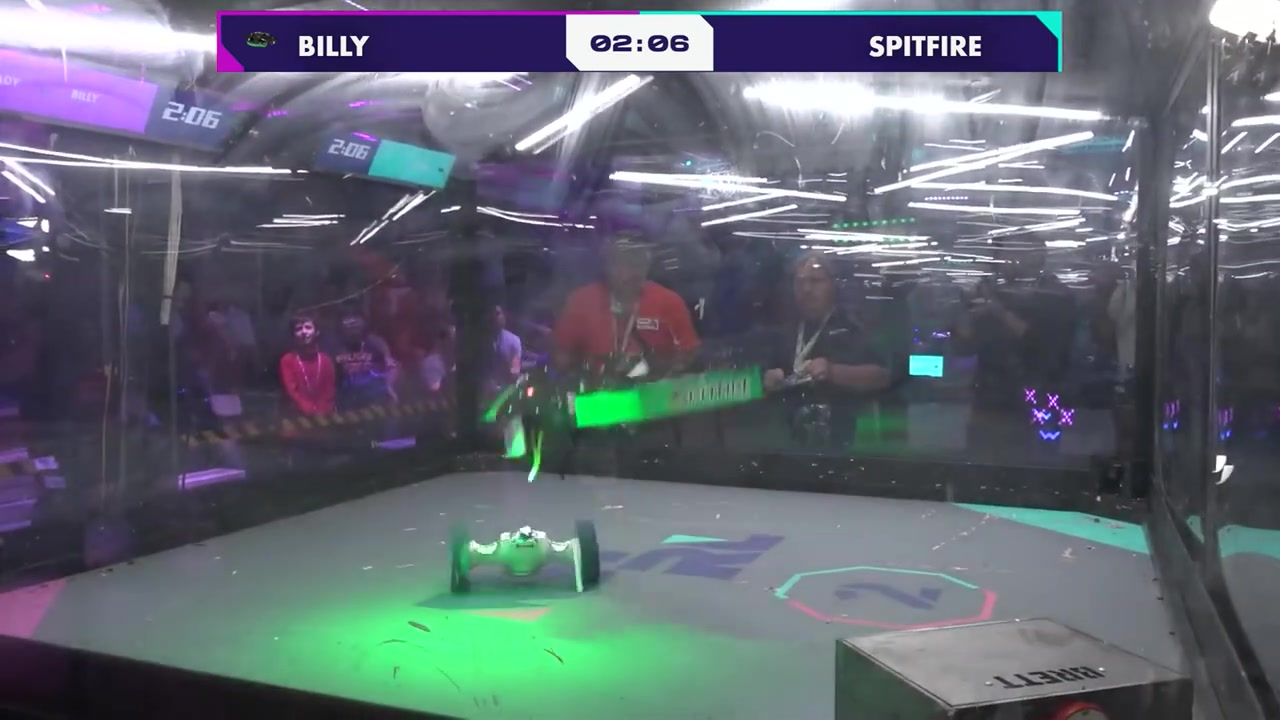combatbot: (477, 365, 767, 481), (449, 522, 603, 598)
housebot: (836, 616, 1191, 720)
